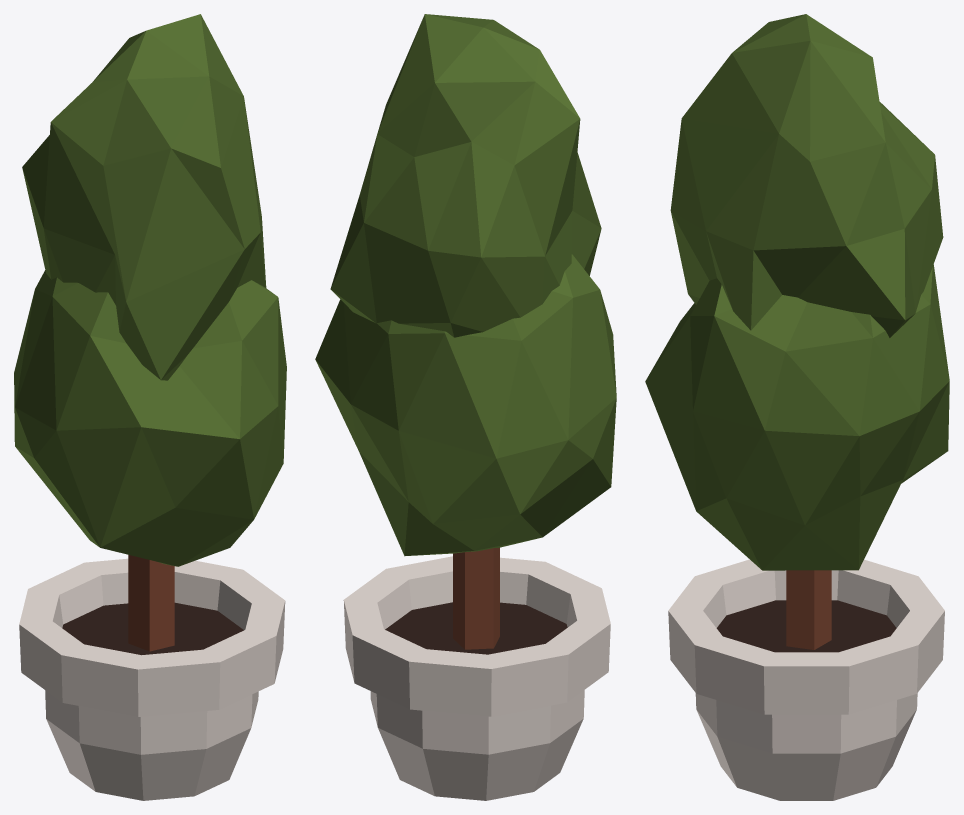
The model's file is officetree2_2.fbx.
3 renders of one model, left to right at view 1: azimuth 30°, elevation 25°; view 2: azimuth 150°, elevation 25°; view 3: azimuth 270°, elevation 25°, orthographic.
Parts seen in each view (by area): view 1: tree2.002; view 2: tree2.002; view 3: tree2.002.
Part boxes in pixels (<box>): tree2.002: <box>14,14,286,800</box>; tree2.002: <box>315,14,616,800</box>; tree2.002: <box>645,14,949,800</box>.
Size of the model in its own units: 80.89 by 226 by 82.94.
